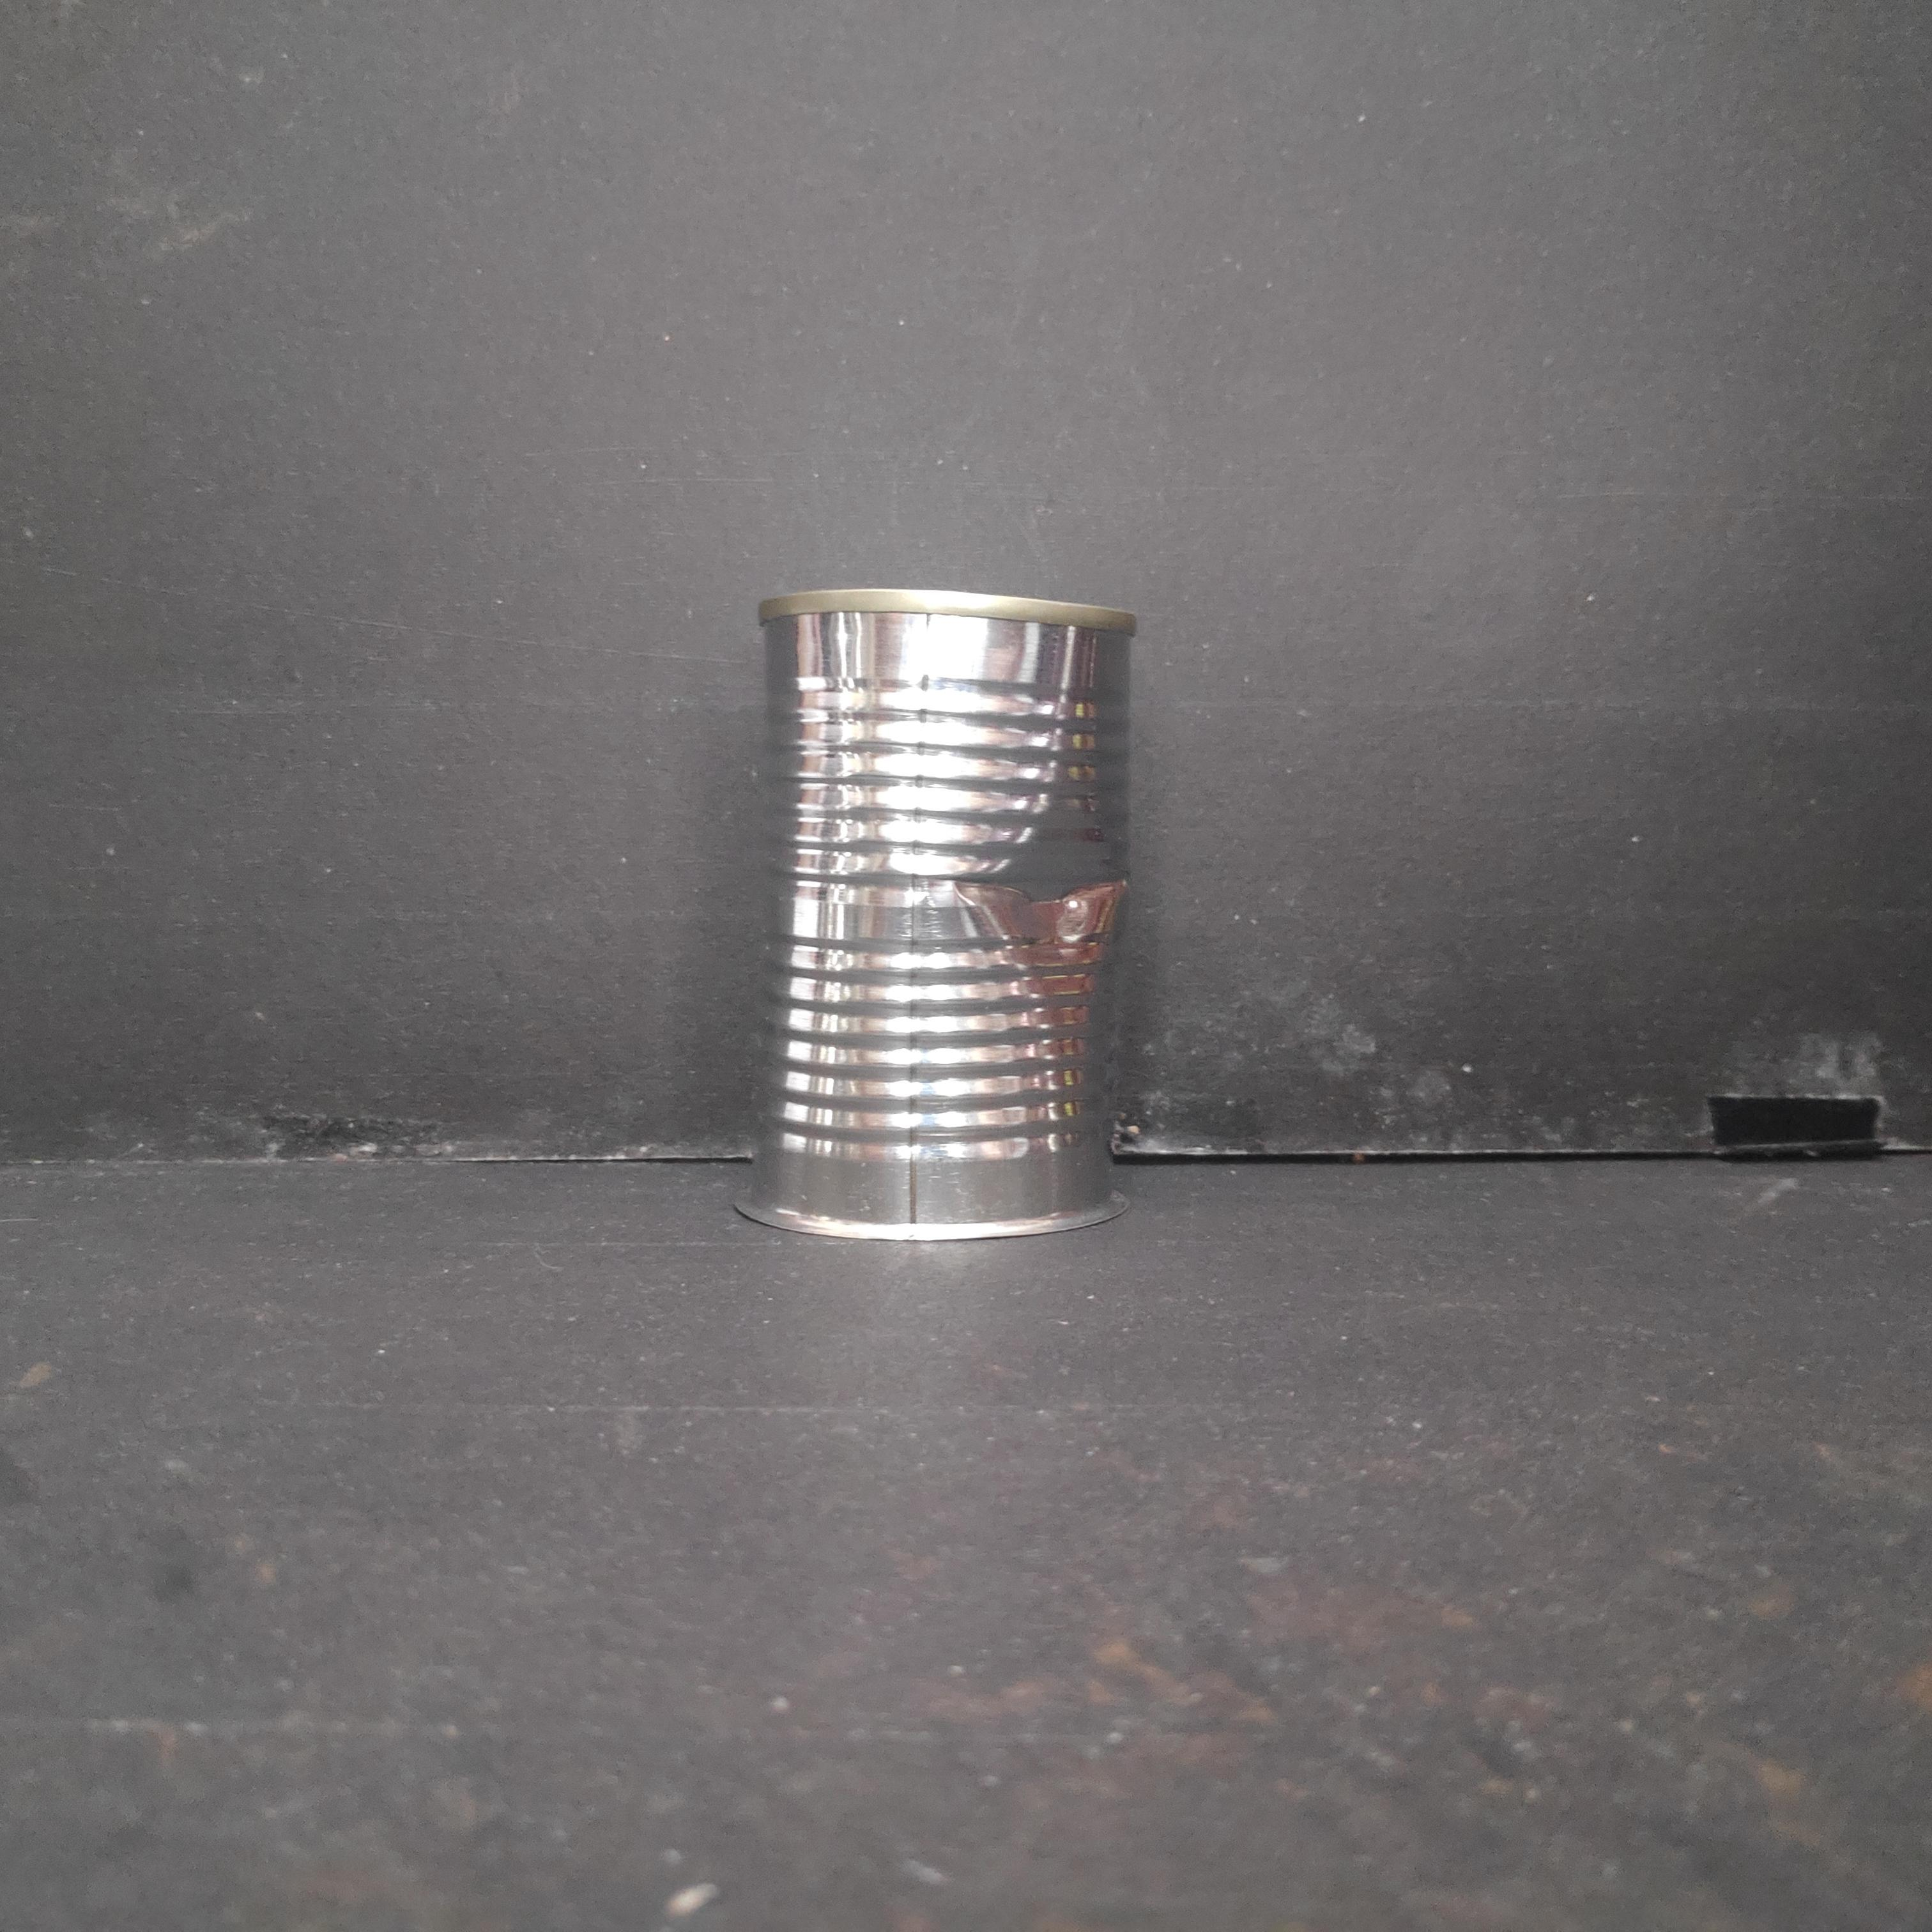Minor Defect: (740, 575, 1150, 1254)
